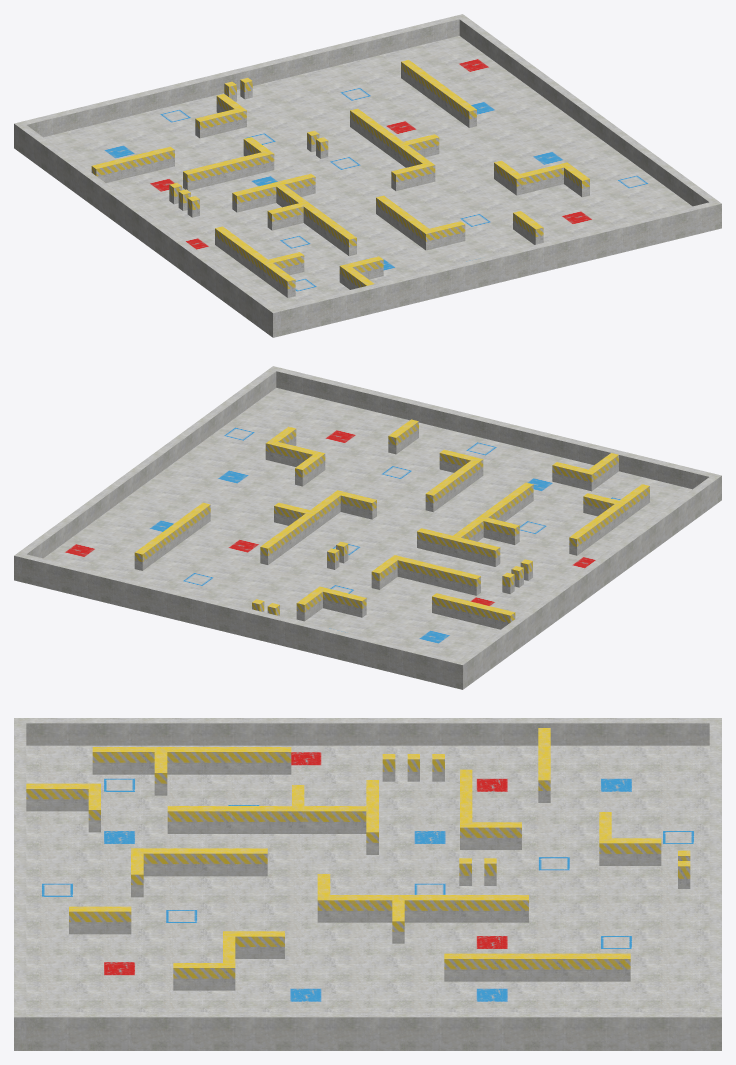
The model's file is bach_sc.dae.
3 renders of one model, top to bottom at view 1: azimuth 30°, elevation 25°; view 2: azimuth 150°, elevation 25°; view 3: azimuth 270°, elevation 25°, orthographic. The views are drawn at different scales.
Parts seen in each view (by area): view 1: floor_11_1m_size.002, wall_01.002, wall_03.002, wall_04.002, wall_02.002, 10x02_wall.121, 10x02_wall.115, 10x02_wall.108, 10x02_wall.123, 10x02_wall.114, 10x02_wall.127, 10x02_wall.113 (+22 smaller); view 2: floor_11_1m_size.002, wall_03.002, wall_01.002, wall_04.002, wall_02.002, 10x02_wall.108, 10x02_wall.090, 10x02_wall.121, 10x02_wall.114, 10x02_wall.113, 10x02_wall.118, 10x02_wall.109 (+24 smaller); view 3: floor_11_1m_size.002, wall_02.002, wall_04.002, wall_01.002, wall_03.002, 10x02_wall.132, 10x02_wall.106, 10x02_wall.133, 10x02_wall.131, 10x02_wall.117, 10x02_wall.116, 10x02_wall.130 (+21 smaller).
Part boxes in pixels (x1=…): floor_11_1m_size.002: x1=44, y1=36, x2=692, y2=307; wall_01.002: x1=277, y1=200, x2=721, y2=335; wall_03.002: x1=14, y1=16, x2=459, y2=151; wall_04.002: x1=18, y1=125, x2=280, y2=337; wall_02.002: x1=455, y1=14, x2=716, y2=206; 10x02_wall.121: x1=195, y1=109, x2=239, y2=138; 10x02_wall.115: x1=421, y1=221, x2=465, y2=250; 10x02_wall.108: x1=232, y1=183, x2=276, y2=212; 10x02_wall.123: x1=391, y1=162, x2=435, y2=190; 10x02_wall.114: x1=183, y1=162, x2=226, y2=190; 10x02_wall.127: x1=520, y1=164, x2=563, y2=193; 10x02_wall.113: x1=223, y1=152, x2=266, y2=181; floor_11_1m_size.002: x1=43, y1=388, x2=691, y2=659; wall_03.002: x1=22, y1=554, x2=467, y2=689; wall_01.002: x1=269, y1=366, x2=713, y2=489; wall_04.002: x1=460, y1=473, x2=721, y2=686; wall_02.002: x1=14, y1=369, x2=276, y2=582; 10x02_wall.108: x1=456, y1=538, x2=500, y2=566; 10x02_wall.090: x1=552, y1=462, x2=596, y2=491; 10x02_wall.121: x1=323, y1=588, x2=366, y2=617; 10x02_wall.114: x1=437, y1=566, x2=480, y2=595; 10x02_wall.113: x1=397, y1=557, x2=441, y2=585; 10x02_wall.118: x1=432, y1=593, x2=475, y2=622; 10x02_wall.109: x1=417, y1=528, x2=460, y2=557; floor_11_1m_size.002: x1=26, y1=745, x2=709, y2=1011; wall_02.002: x1=26, y1=1012, x2=721, y2=1050; wall_04.002: x1=14, y1=718, x2=709, y2=745; wall_01.002: x1=14, y1=723, x2=26, y2=1050; wall_03.002: x1=709, y1=718, x2=721, y2=1011; 10x02_wall.132: x1=444, y1=953, x2=506, y2=981; 10x02_wall.106: x1=26, y1=783, x2=88, y2=811; 10x02_wall.133: x1=506, y1=953, x2=568, y2=981; 10x02_wall.131: x1=568, y1=953, x2=630, y2=981; 10x02_wall.117: x1=205, y1=848, x2=267, y2=876; 10x02_wall.116: x1=143, y1=848, x2=205, y2=876; 10x02_wall.130: x1=69, y1=906, x2=131, y2=934.
Bounding box in the file's own units: 11.4 × 11.4 × 0.6.
